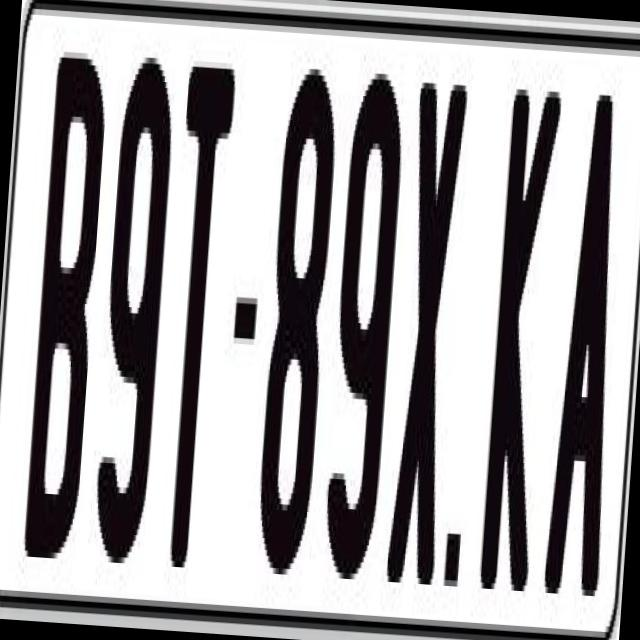8: (250, 55, 340, 564)
9: (317, 54, 413, 598), (85, 50, 176, 593)
A: (540, 80, 634, 620)
B: (18, 56, 108, 594)
K: (474, 82, 560, 614)
T: (150, 48, 238, 586)
X: (384, 76, 466, 602)
